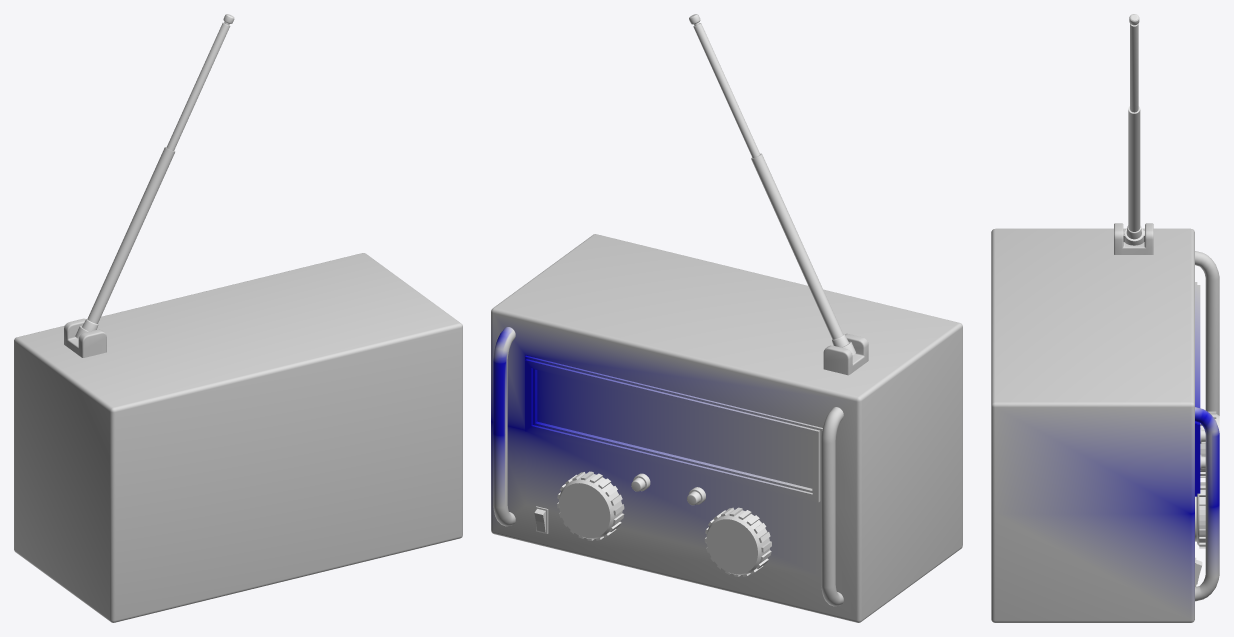
File: Radio.fbx
3 views of the same model, side by side, from view 1: azimuth 30°, elevation 25°; view 2: azimuth 150°, elevation 25°; view 3: azimuth 270°, elevation 25° (orthographic). The views are drawn at different scales.
Visible parts, largest first — view 1: Cube.008, Cylinder.009; view 2: Cube.008, Cylinder.009, Cylinder.003, Cylinder.002; view 3: Cube.008, Cylinder.009, Cylinder.002.
Part boxes in pixels (x1,y1,x2,y2): Cube.008: (14,253,462,622); Cylinder.009: (75,14,234,338); Cube.008: (491,234,962,622); Cylinder.009: (689,14,855,355); Cylinder.003: (704,507,771,576); Cylinder.002: (557,471,624,540); Cube.008: (991,223,1219,622); Cylinder.009: (1123,14,1144,245); Cylinder.002: (1195,482,1205,548).
Bounding box in the file's own units: 102 × 141 × 55.62.
